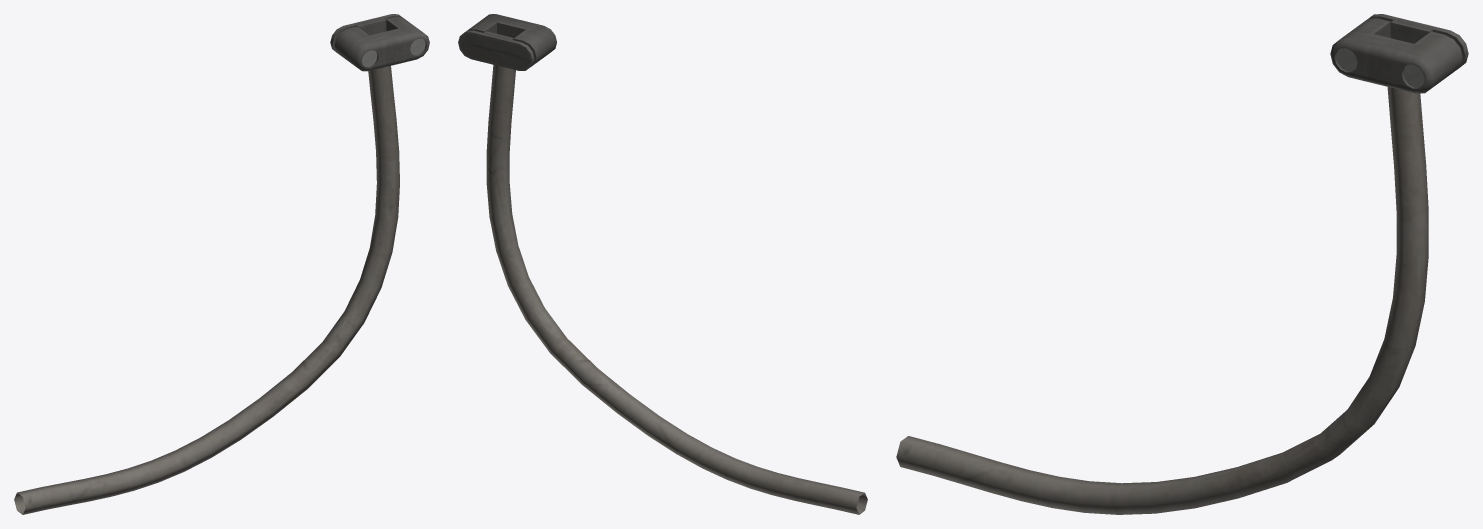
File: cable_turn_long.glb
3 renders of one model, left to right at view 1: azimuth 30°, elevation 25°; view 2: azimuth 150°, elevation 25°; view 3: azimuth 330°, elevation 25°, orthographic. The views are drawn at different scales.
Visible parts, largest first — view 1: cable_turn_long.001; view 2: cable_turn_long.001; view 3: cable_turn_long.001.
Boxes of the visible parts, x1,y1,x2,y2 form: cable_turn_long.001: (14, 14, 429, 514); cable_turn_long.001: (458, 14, 867, 514); cable_turn_long.001: (896, 14, 1468, 514).
Size of the model in its own units: 0.2208 by 0.2134 by 0.0259.
Materials: 1 (1 with a texture image).
